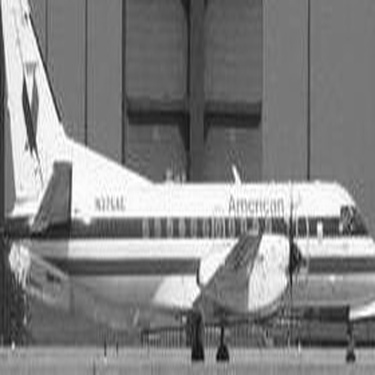airplane: (4, 8, 369, 371)
